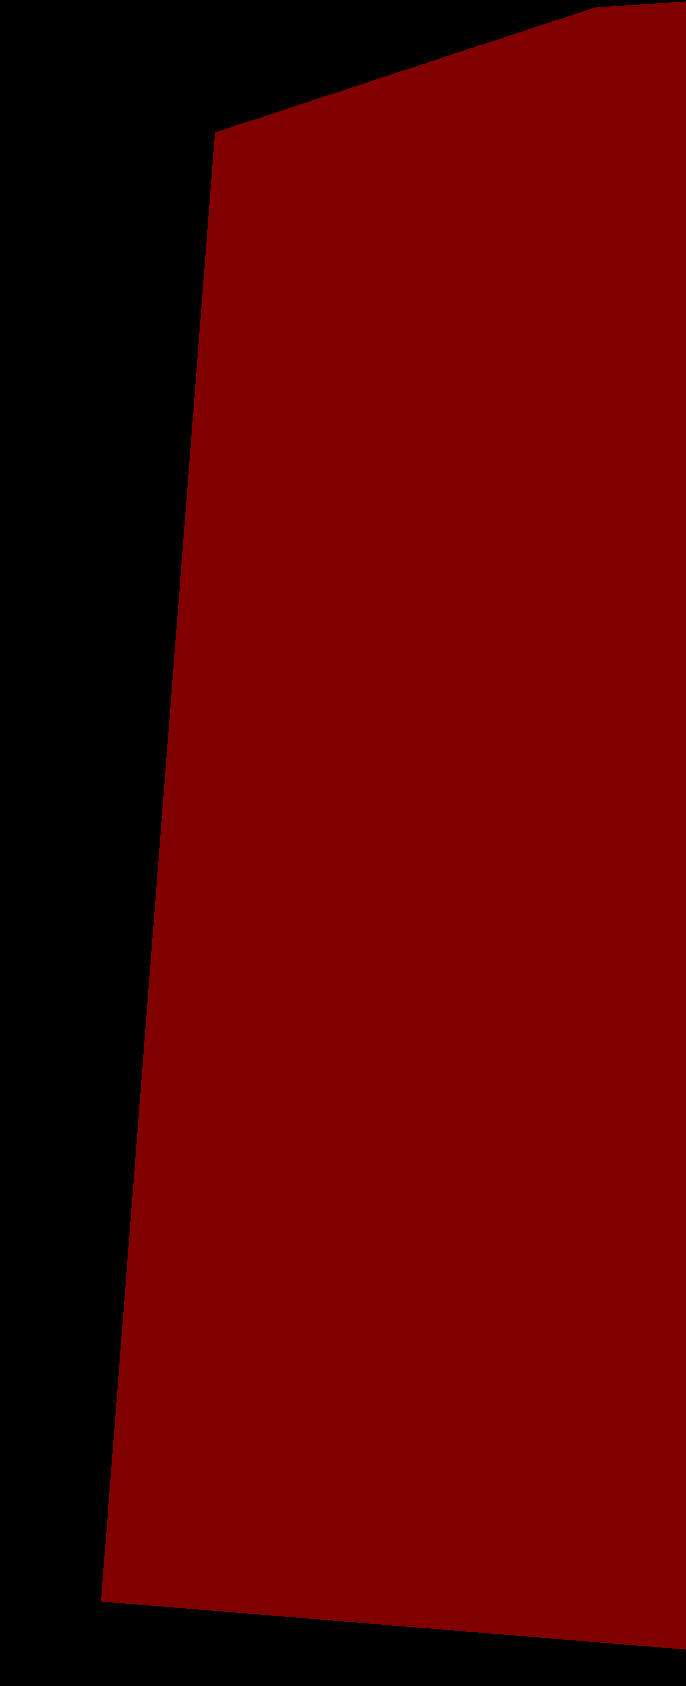sign: (101, 1, 685, 1649)
